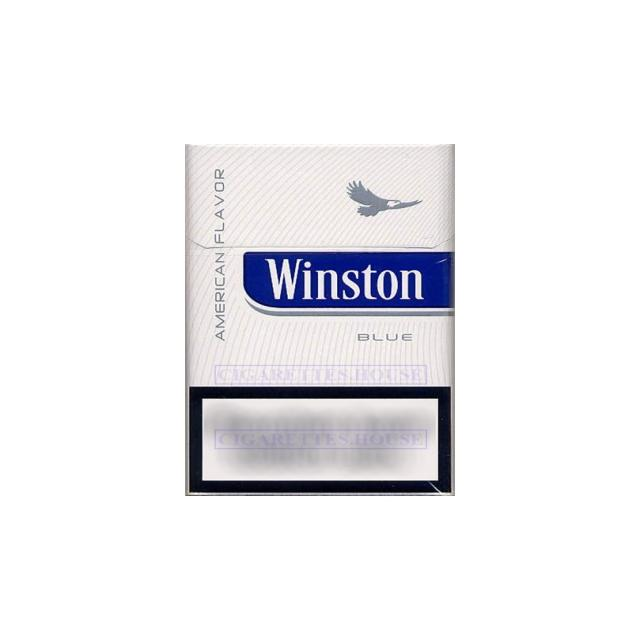winston: (170, 127, 458, 500)
